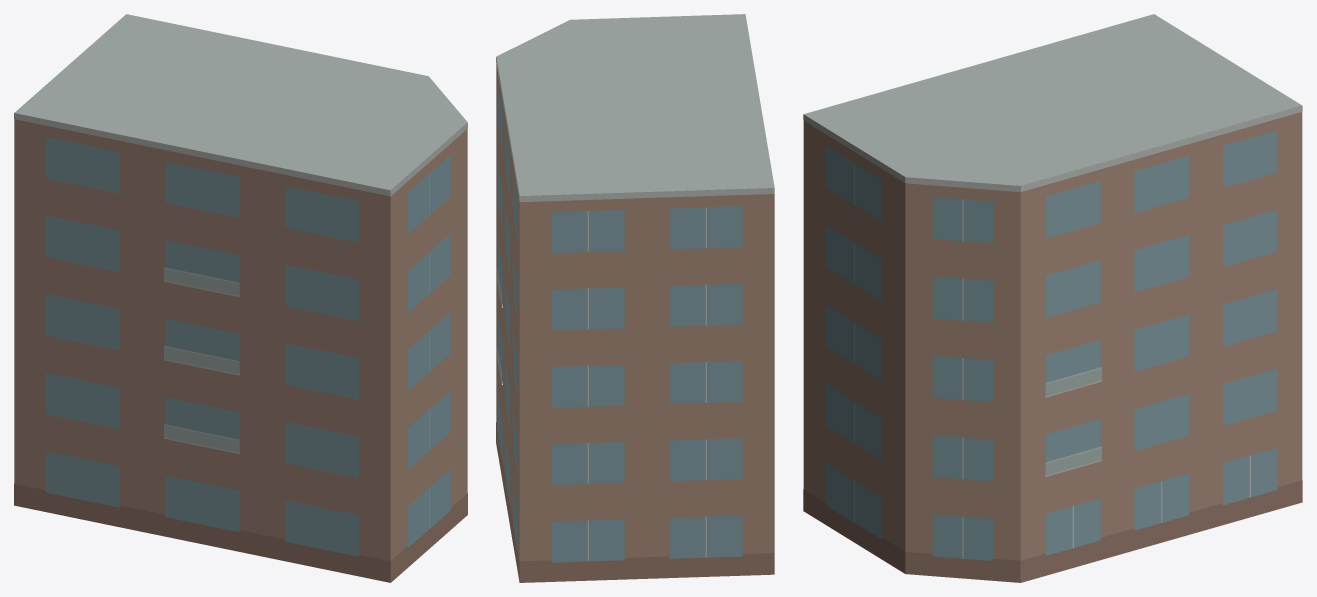
The model's file is survey-upis-32881727.glb.
3 views of the same model, side by side, from view 1: azimuth 30°, elevation 25°; view 2: azimuth 150°, elevation 25°; view 3: azimuth 270°, elevation 25° (orthographic). The views are drawn at different scales.
Parts seen in each view (by area): view 1: survey-upis-32881727.tmp; view 2: survey-upis-32881727.tmp; view 3: survey-upis-32881727.tmp.
Part boxes in pixels (x1,y1,x2,y2): survey-upis-32881727.tmp: [14, 14, 467, 582]; survey-upis-32881727.tmp: [496, 14, 774, 582]; survey-upis-32881727.tmp: [803, 14, 1302, 582].
Size of the model in its own units: 14.6 by 15.7 by 17.9.
